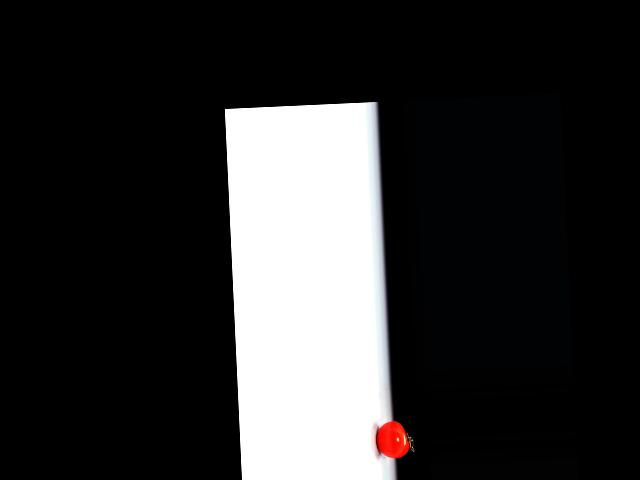tomato: (375, 419, 409, 458)
